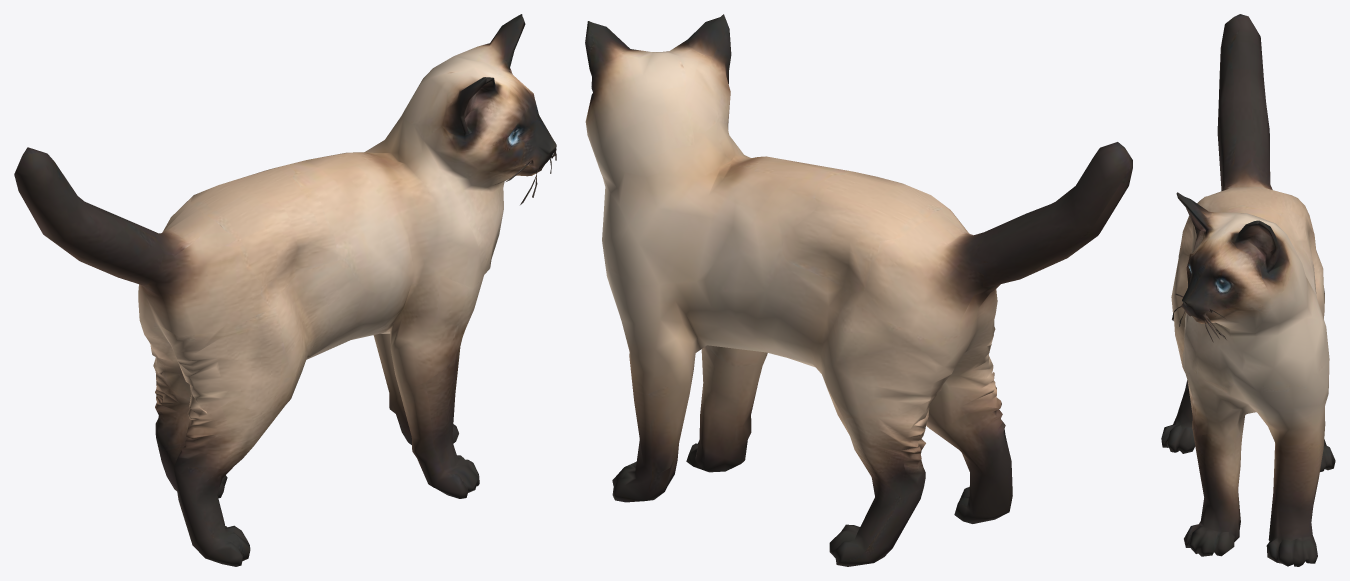
The model's file is VIGNETPAW-lo.glb.
3 views of the same model, side by side, from view 1: azimuth 30°, elevation 25°; view 2: azimuth 150°, elevation 25°; view 3: azimuth 270°, elevation 25° (orthographic). The views are drawn at different scales.
Parts seen in each view (by area): view 1: tripo_node_40842747-f680-4449-9d99-7efc51d4d30a; view 2: tripo_node_40842747-f680-4449-9d99-7efc51d4d30a; view 3: tripo_node_40842747-f680-4449-9d99-7efc51d4d30a.
Boxes of the visible parts, left/top/right/bottom form: tripo_node_40842747-f680-4449-9d99-7efc51d4d30a: left=14, top=14, right=556, bottom=566; tripo_node_40842747-f680-4449-9d99-7efc51d4d30a: left=585, top=14, right=1132, bottom=566; tripo_node_40842747-f680-4449-9d99-7efc51d4d30a: left=1161, top=14, right=1335, bottom=566.
Size of the model in its own units: 1.28 by 0.9967 by 0.4262.
1 material, 1 textured.
